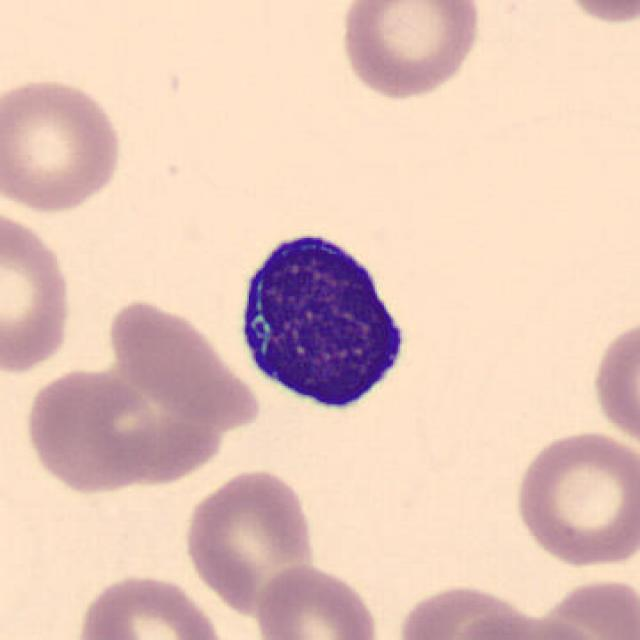Lymphocyte: (226, 217, 421, 421)
RBC: (107, 295, 266, 437), (180, 464, 320, 619), (508, 427, 638, 571), (0, 72, 128, 217), (22, 365, 158, 495), (334, 0, 485, 102), (0, 202, 76, 379), (71, 569, 229, 640), (252, 560, 383, 640), (393, 580, 533, 640), (588, 310, 638, 452), (530, 573, 638, 638), (446, 612, 608, 640), (547, 0, 640, 28)
